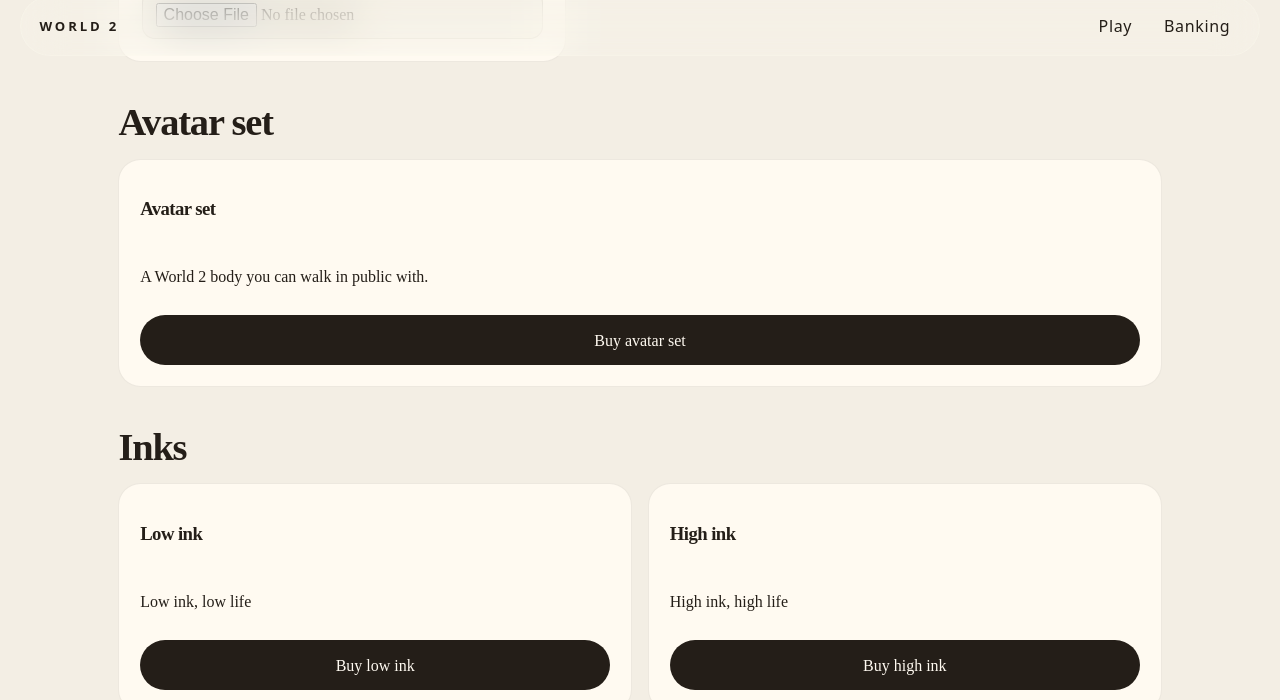
Scenario: asset store › asks for a citizenship credential before a purchase
(page scrolled)
Click the button "Buy avatar set": x=640, y=340 [140, 315, 1140, 365]
(page scrolled)
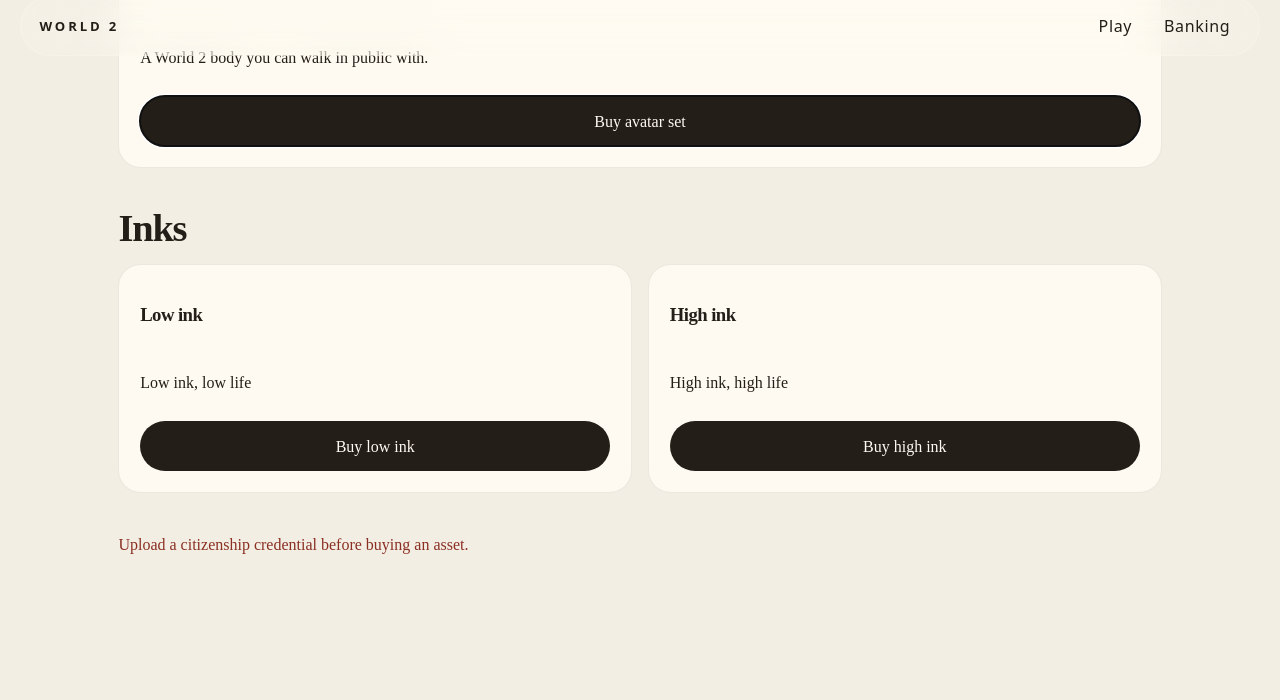
Now the text "Upload a citizenship credential before buying an asset." is shown, box [118, 536, 468, 553]
